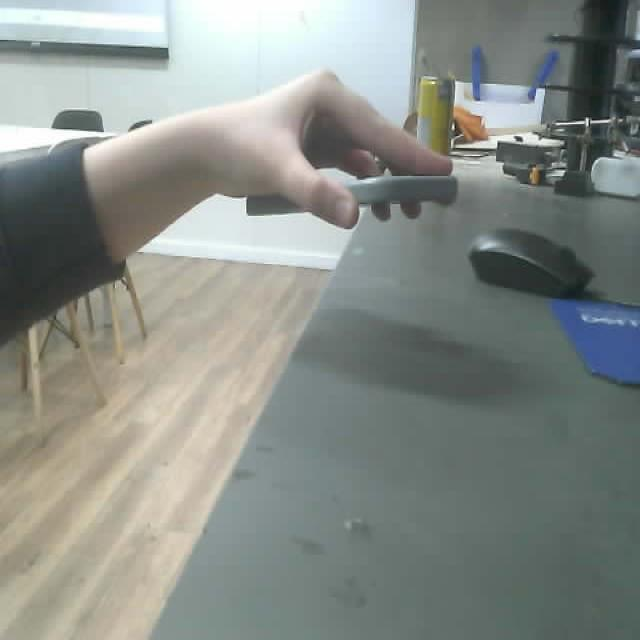phone: (247, 172, 458, 213)
